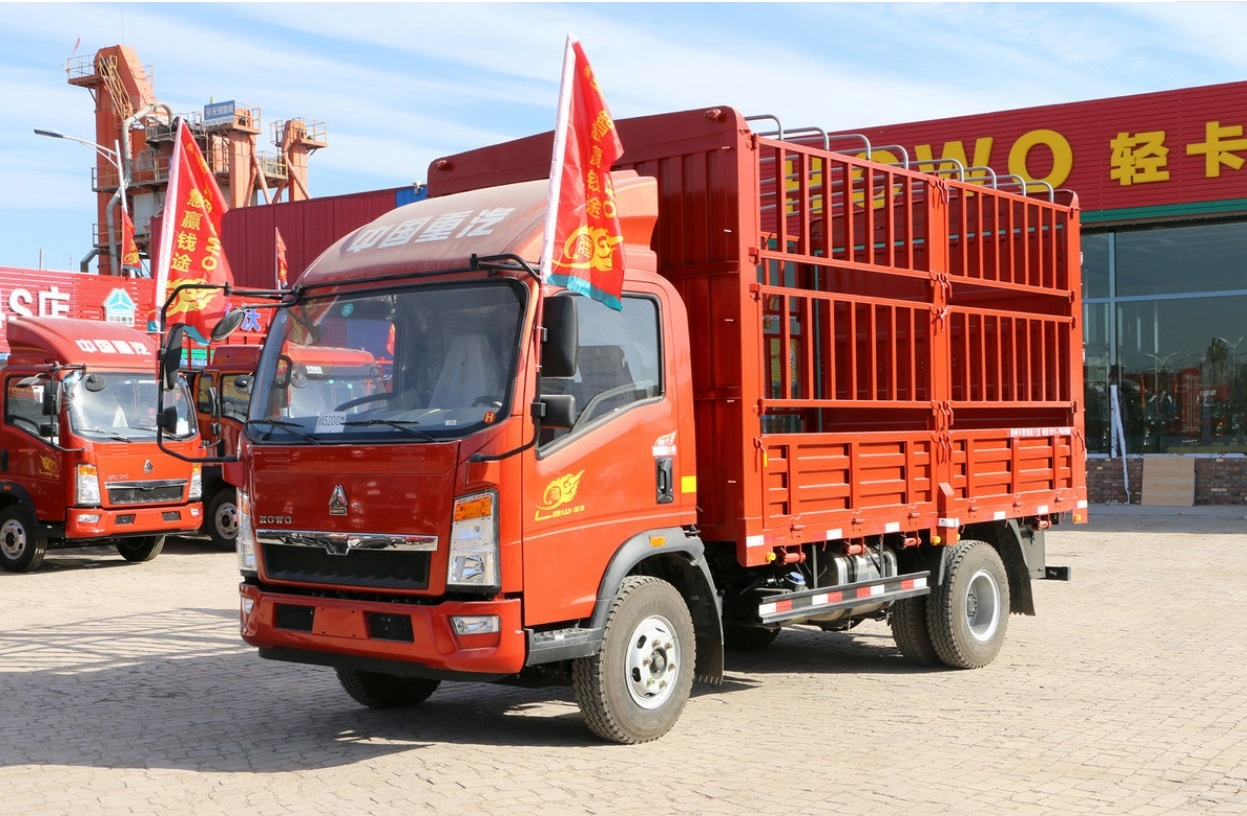truck: (192, 90, 1126, 738)
